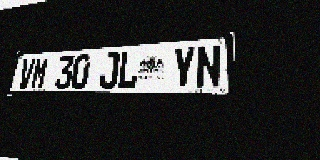0: (70, 54, 91, 89)
3: (54, 55, 75, 89)
J: (98, 52, 120, 89)
L: (117, 50, 140, 89)
M: (30, 57, 50, 89)
N: (195, 44, 221, 88)
V: (17, 58, 36, 89)
Y: (171, 46, 196, 89)
